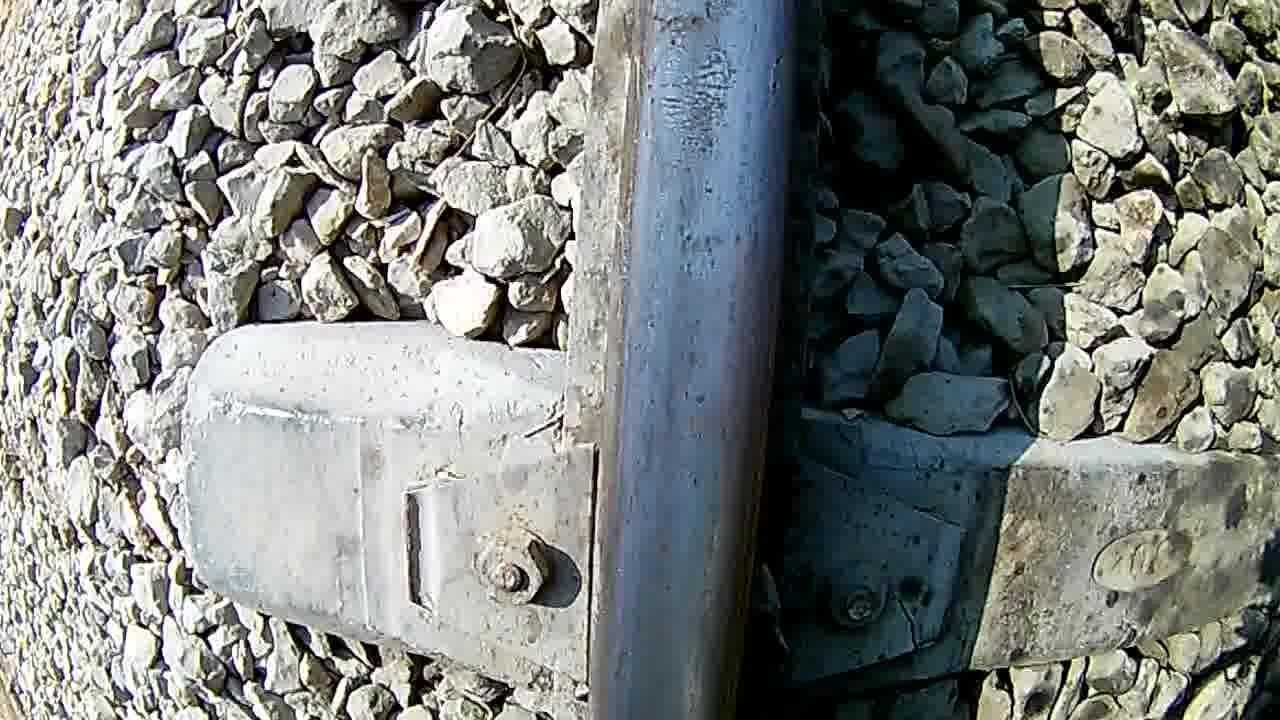crack: (608, 0, 797, 720)
